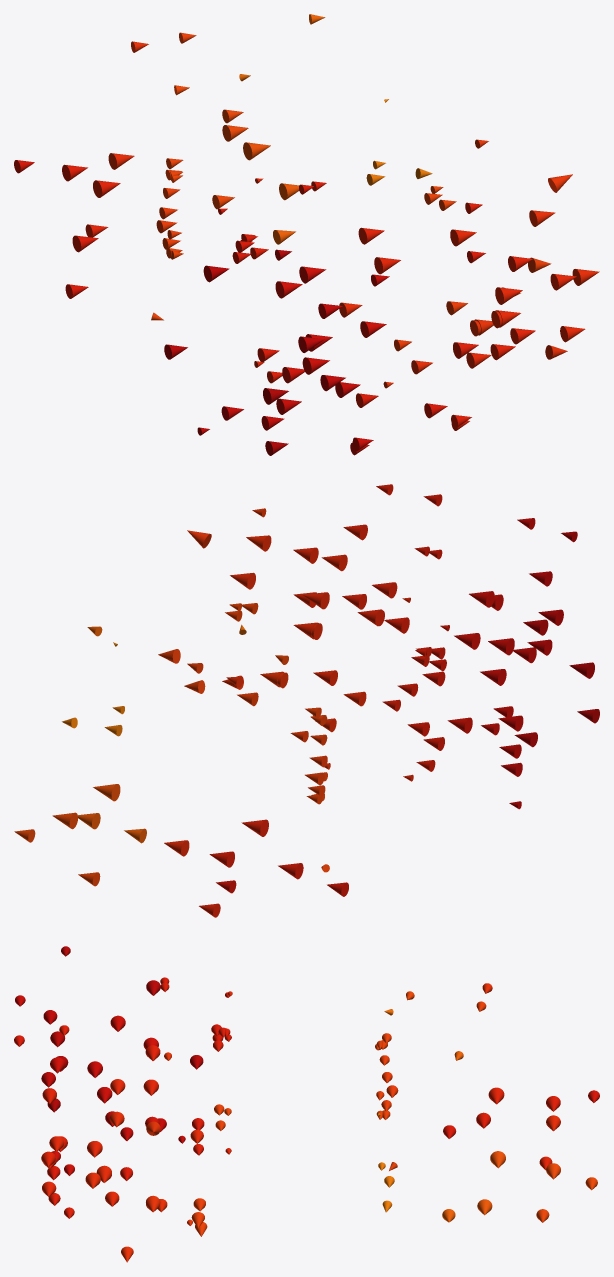
The model's file is LineasCorrienteH2-O2_mh2-1.38_V-1.1.glb.
The picture shows the model from 3 angles, top to bottom: view 1: azimuth 30°, elevation 25°; view 2: azimuth 150°, elevation 25°; view 3: azimuth 270°, elevation 25°; orthographic projection. The views are drawn at different scales.
Size of the model in its own units: 0.000809 by 0.000484 by 0.00123.
2 materials, 2 textured.
